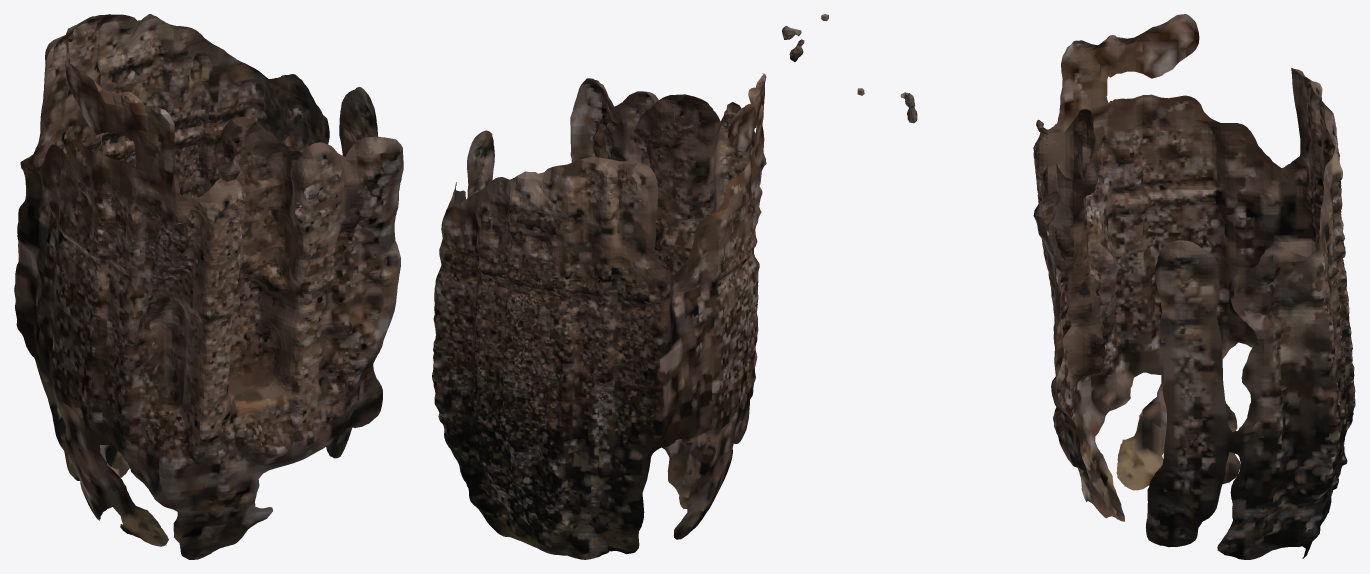
File: real_amb_temple_surface_mesh.obj
3 renders of one model, left to right at view 1: azimuth 30°, elevation 25°; view 2: azimuth 150°, elevation 25°; view 3: azimuth 270°, elevation 25°, orthographic. The views are drawn at different scales.
Bounding box in the file's own units: 1.01 × 1.62 × 1.58.
